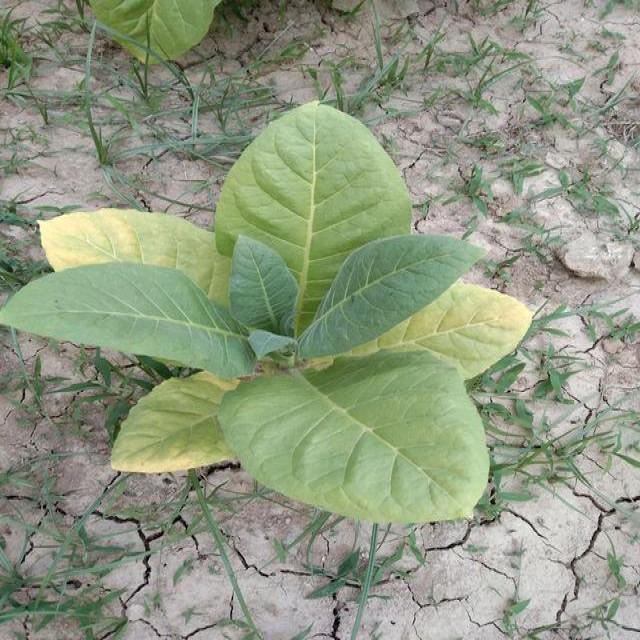crop: (0, 102, 532, 522)
